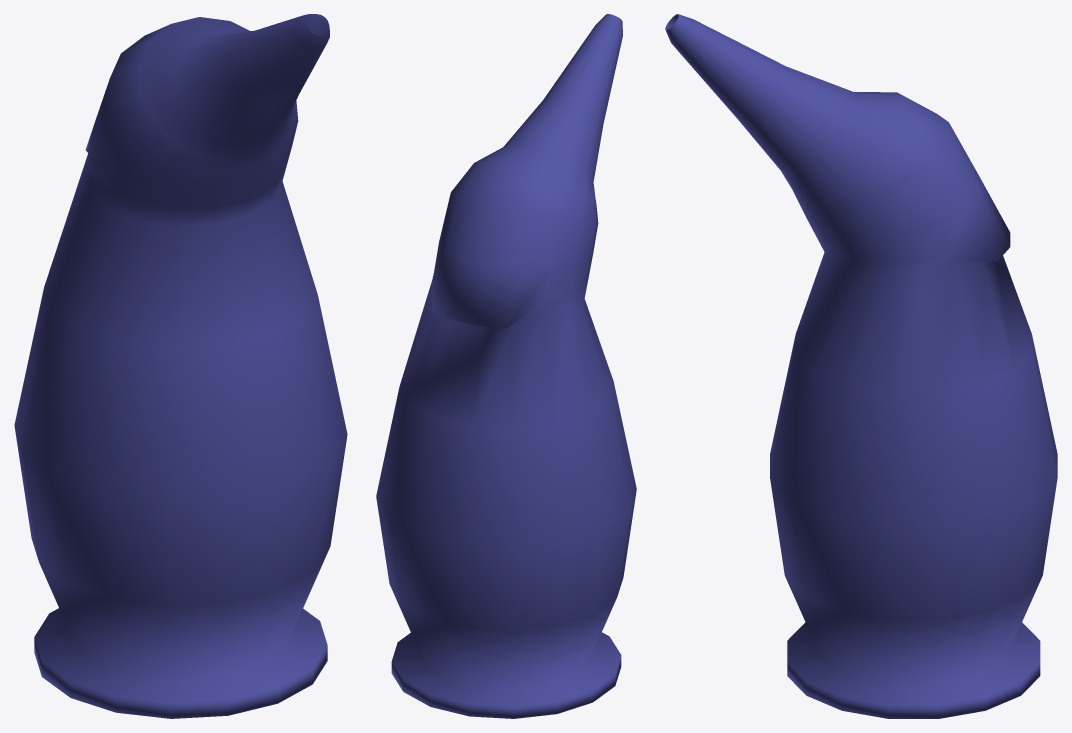
Rendered from Pera.fbx.
The picture shows the model from 3 angles, left to right: view 1: azimuth 30°, elevation 25°; view 2: azimuth 150°, elevation 25°; view 3: azimuth 270°, elevation 25°; orthographic projection. The views are drawn at different scales.
Parts seen in each view (by area): view 1: Pera; view 2: Pera; view 3: Pera.
Boxes of the visible parts, x1,y1,x2,y2 form: Pera: [14, 14, 347, 718]; Pera: [376, 14, 636, 718]; Pera: [665, 14, 1057, 718].
Bounding box in the file's own units: 5.61 × 14 × 7.65.
